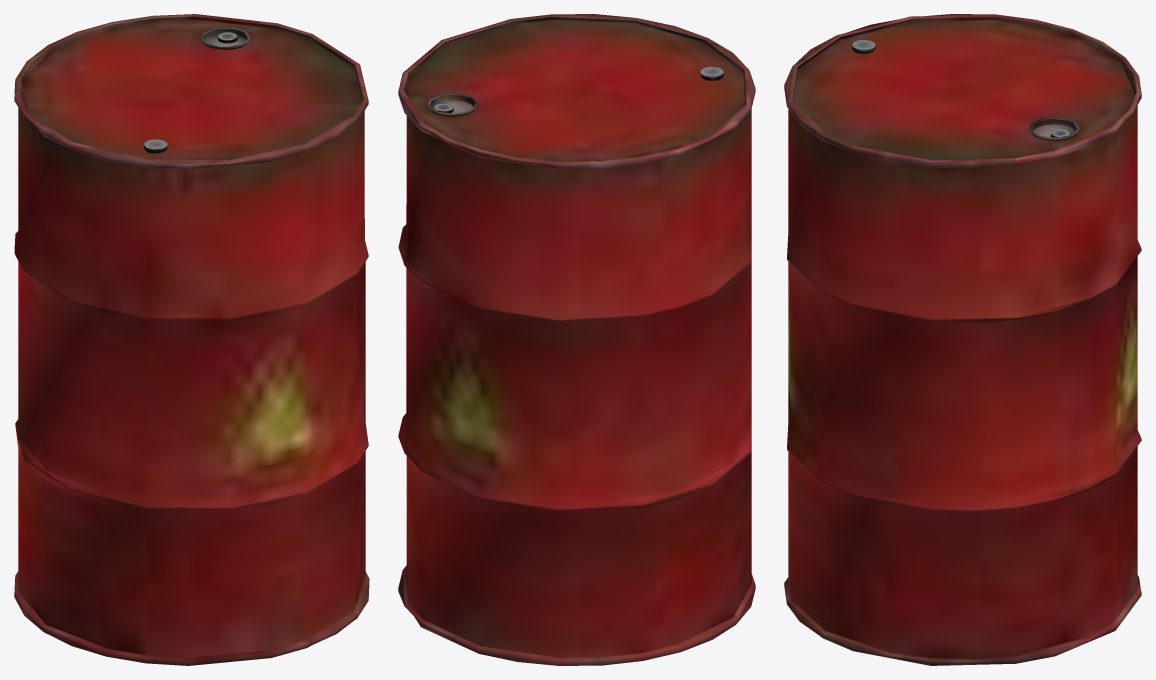
3 views of the same model, side by side, from view 1: azimuth 30°, elevation 25°; view 2: azimuth 150°, elevation 25°; view 3: azimuth 270°, elevation 25° (orthographic).
Visible parts, largest first — view 1: Barrel_01; view 2: Barrel_01; view 3: Barrel_01.
Part boxes in pixels (x1,y1,x2,y2): Barrel_01: (14, 14, 369, 665); Barrel_01: (398, 14, 755, 665); Barrel_01: (784, 14, 1141, 665).
Bounding box in the file's own units: 0.563 × 0.8789 × 0.563.
Materials: 1 (1 with a texture image).
